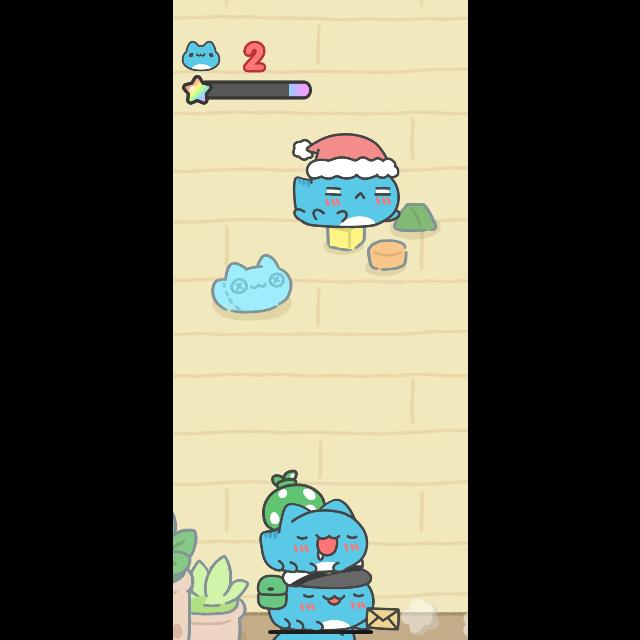capoo: (248, 475, 374, 569), (284, 130, 402, 226), (253, 574, 401, 630)
